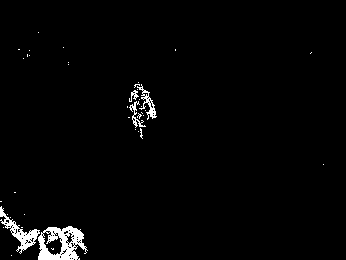person: (128, 82, 158, 142)
